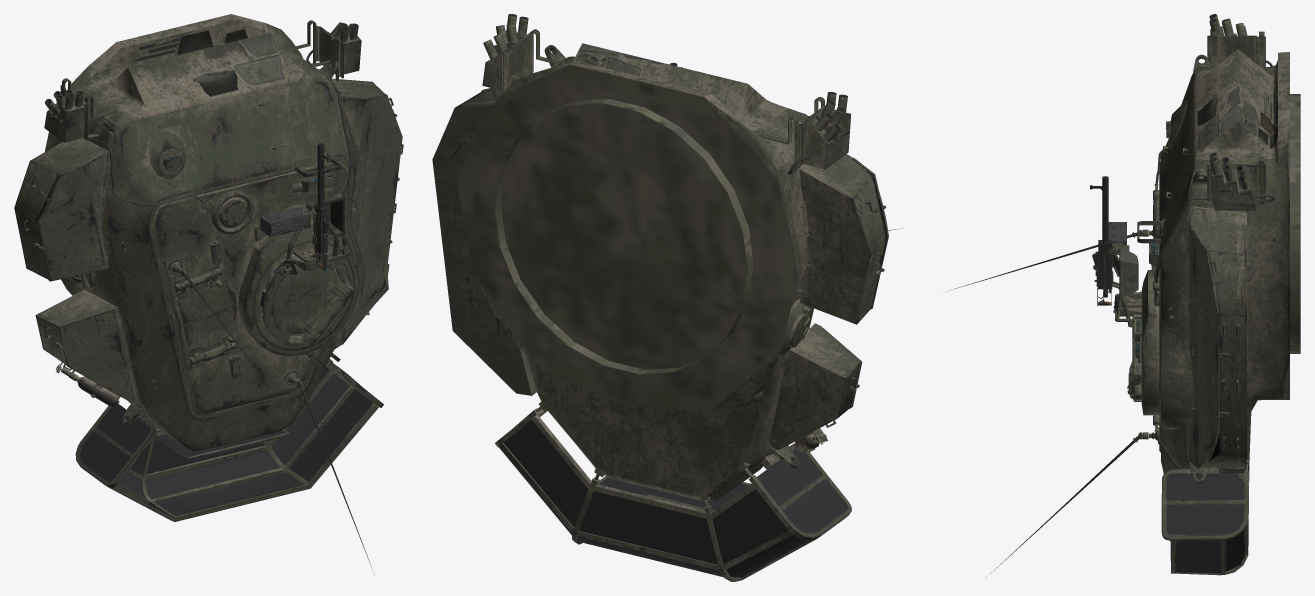
The model's file is Turret_01.glb.
3 renders of one model, left to right at view 1: azimuth 30°, elevation 25°; view 2: azimuth 150°, elevation 25°; view 3: azimuth 270°, elevation 25°, orthographic. The views are drawn at different scales.
Visible parts, largest first — view 1: set_0_group_0; view 2: set_0_group_0; view 3: set_0_group_0.
Part boxes in pixels (x1,y1,x2,y2): set_0_group_0: [14, 14, 403, 572]; set_0_group_0: [432, 14, 903, 581]; set_0_group_0: [947, 14, 1300, 577].
Size of the model in its own units: 3.33 by 3.84 by 2.68.
Materials: 1 (1 with a texture image).
